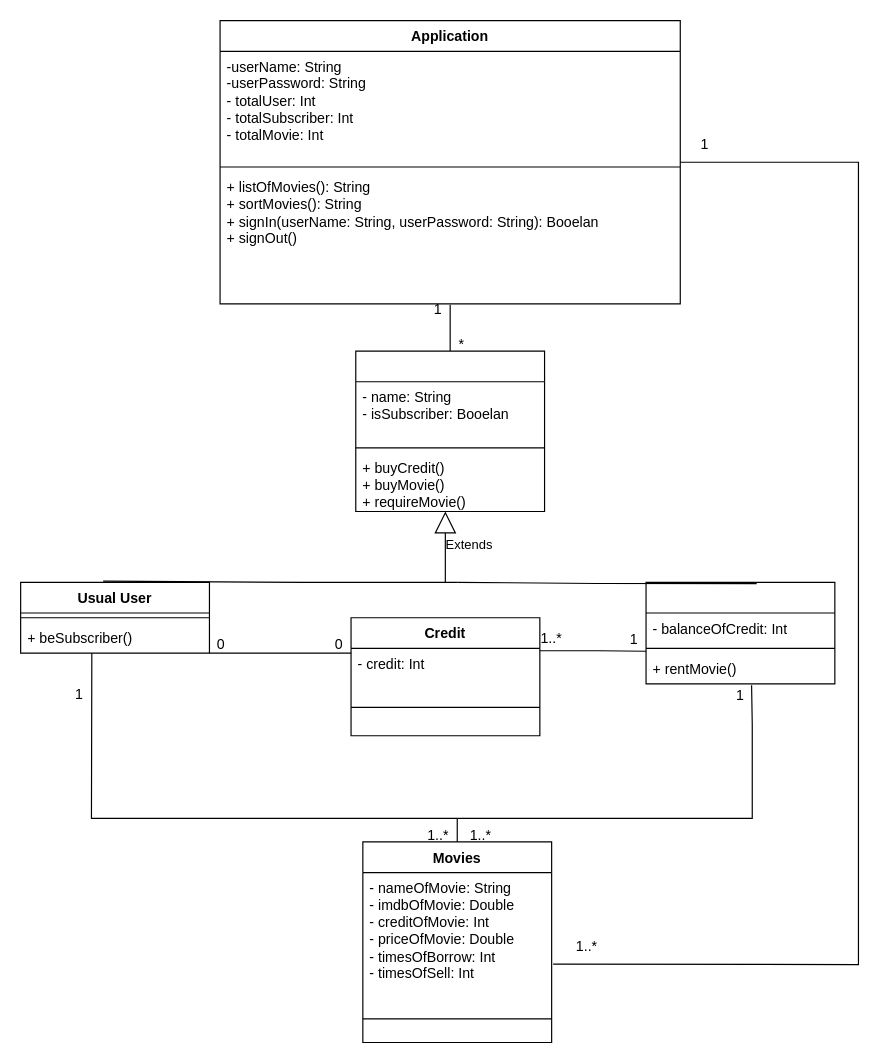
Image size: 880x1063. Some labels were removed from this diagram. The shapes that lost their labels are listed below. From the top down, each one's box as (x1, y1, x2, y2) in pixels, then its label:
(355, 350, 545, 512): User
(645, 581, 835, 684): Subscriber User
